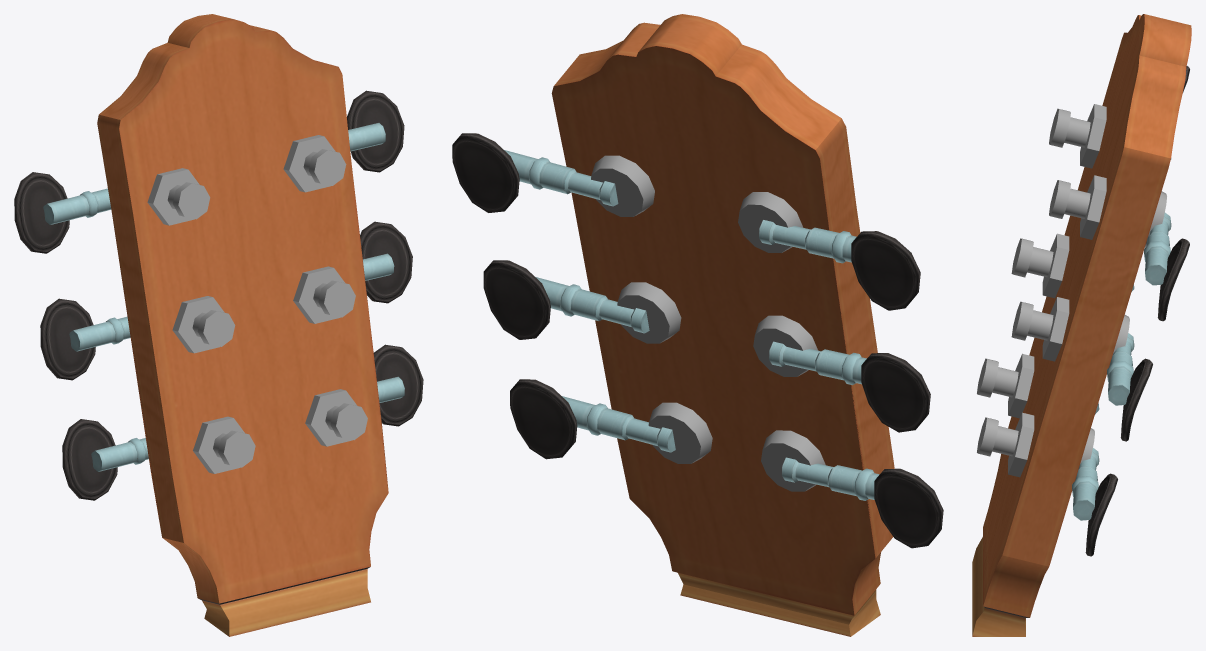
The model's file is Head.fbx.
The picture shows the model from 3 angles, left to right: view 1: azimuth 30°, elevation 25°; view 2: azimuth 150°, elevation 25°; view 3: azimuth 270°, elevation 25°; orthographic projection. The views are drawn at different scales.
Visible parts, largest first — view 1: polySurface133; view 2: polySurface133; view 3: polySurface133.
Part boxes in pixels (x1,y1,x2,y2): polySurface133: (14, 14, 423, 636); polySurface133: (452, 14, 943, 636); polySurface133: (972, 14, 1191, 636).
Size of the model in its own units: 16.19 by 21.51 by 7.38.
Materials: 2 (1 with a texture image).
